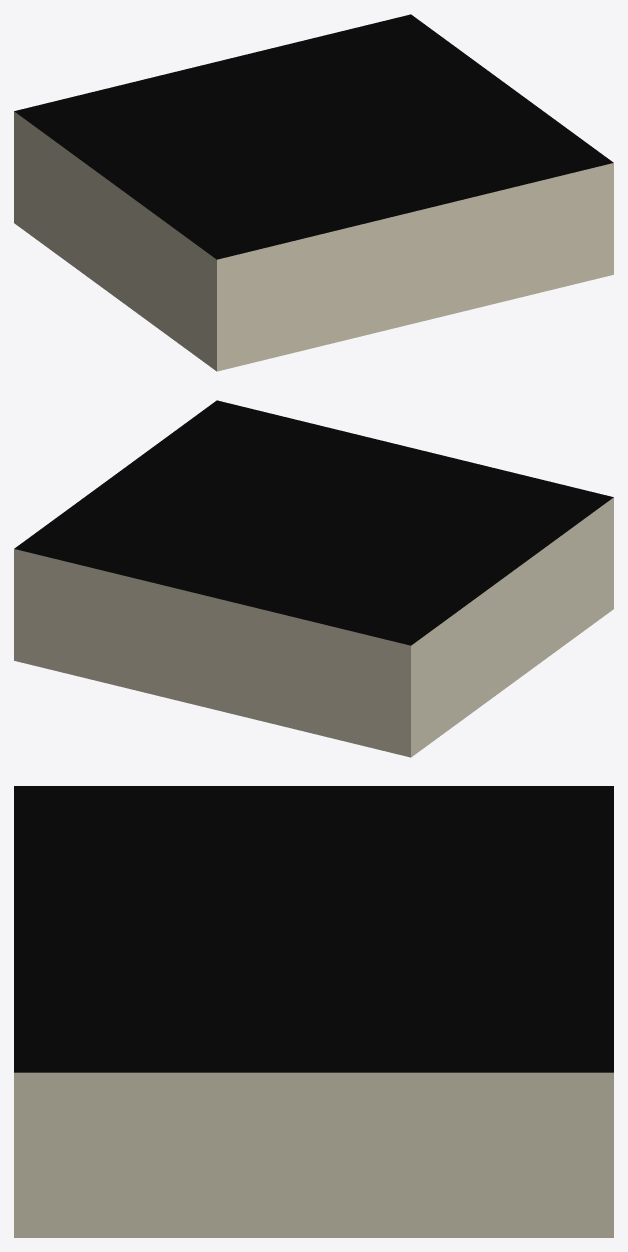
File: testScene_dof.dae
3 views of the same model, one above another, from view 1: azimuth 30°, elevation 25°; view 2: azimuth 150°, elevation 25°; view 3: azimuth 270°, elevation 25° (orthographic). The views are drawn at different scales.
Visible parts, largest first — view 1: Plane_010; view 2: Plane_010; view 3: Plane_010.
Boxes of the visible parts, box(x1,y1,x2,y2) form: Plane_010: box(14, 14, 613, 371); Plane_010: box(14, 400, 613, 757); Plane_010: box(14, 786, 613, 1237).
Size of the model in its own units: 10.97 by 9.71 by 2.95.
